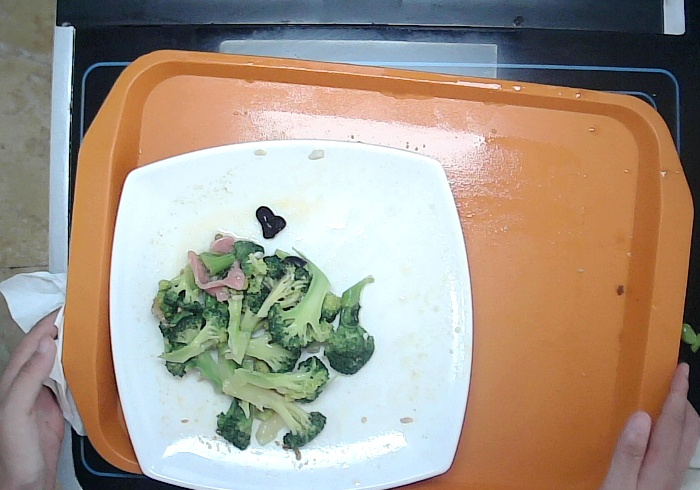ZNLD-Bai_Fang_Pan: (105, 136, 479, 490)
